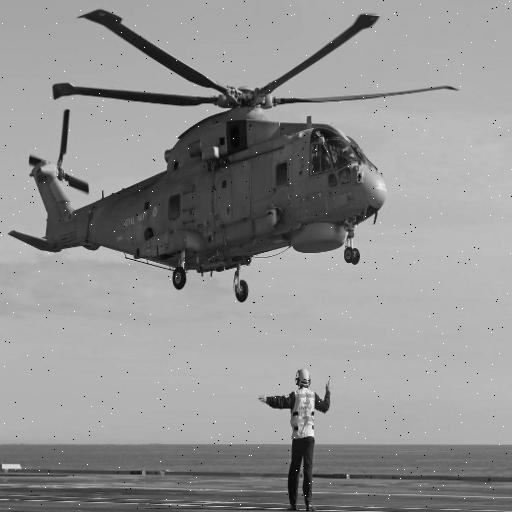helicopter: (1, 1, 465, 304)
